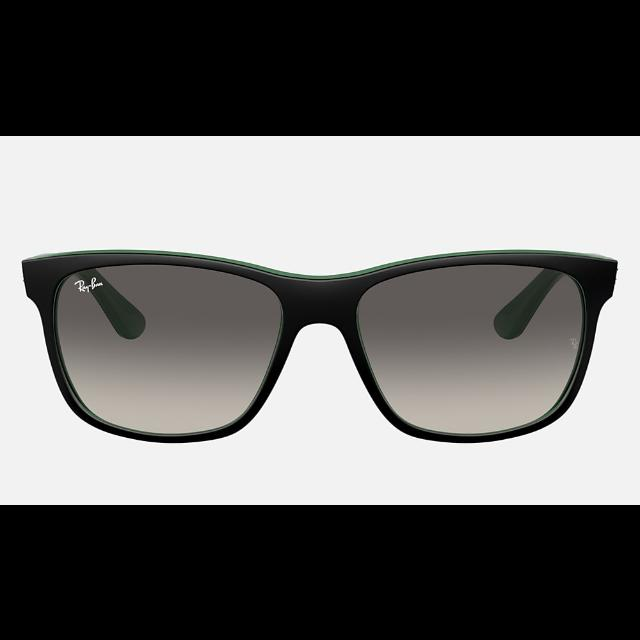Sunglasses: (21, 247, 620, 443)
